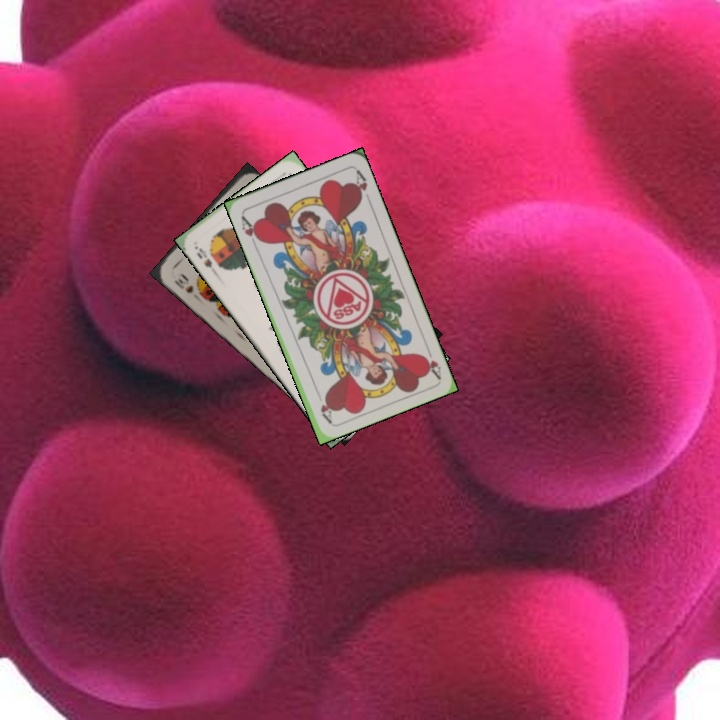HA: (237, 212, 264, 250), (418, 341, 444, 380)
S10: (170, 270, 201, 302)
SO: (192, 244, 215, 270)
